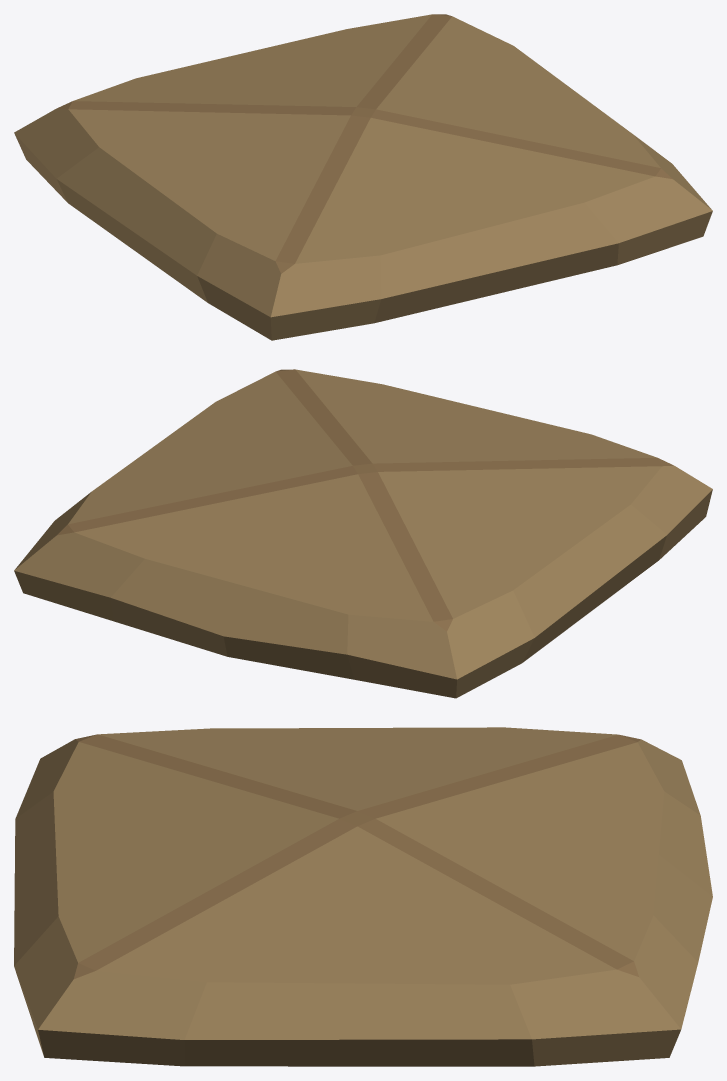
The model's file is Lembas Bread.fbx.
3 views of the same model, one above another, from view 1: azimuth 30°, elevation 25°; view 2: azimuth 150°, elevation 25°; view 3: azimuth 270°, elevation 25° (orthographic). The views are drawn at different scales.
Visible parts, largest first — view 1: Cube; view 2: Cube; view 3: Cube.
Boxes of the visible parts, x1=… form: Cube: x1=14, y1=14, x2=712, y2=340; Cube: x1=14, y1=369, x2=712, y2=698; Cube: x1=14, y1=727, x2=712, y2=1066.
Size of the model in its own units: 210 by 36.67 by 212.
